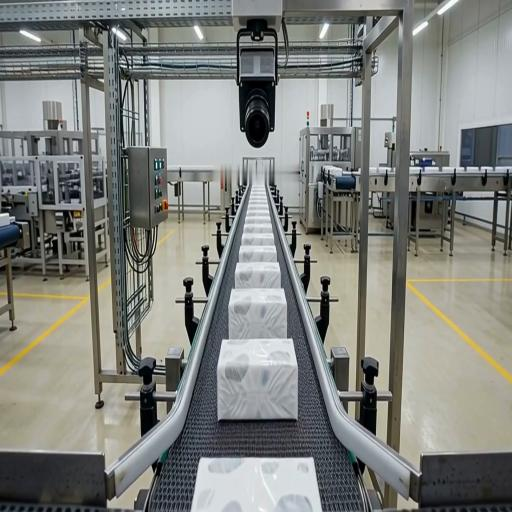good: (192, 458, 321, 511), (218, 339, 298, 420), (229, 289, 287, 338), (235, 263, 281, 288), (239, 246, 277, 262), (242, 233, 274, 245), (246, 208, 269, 221), (244, 223, 273, 233), (245, 213, 270, 224), (249, 196, 268, 205), (248, 203, 269, 211)
